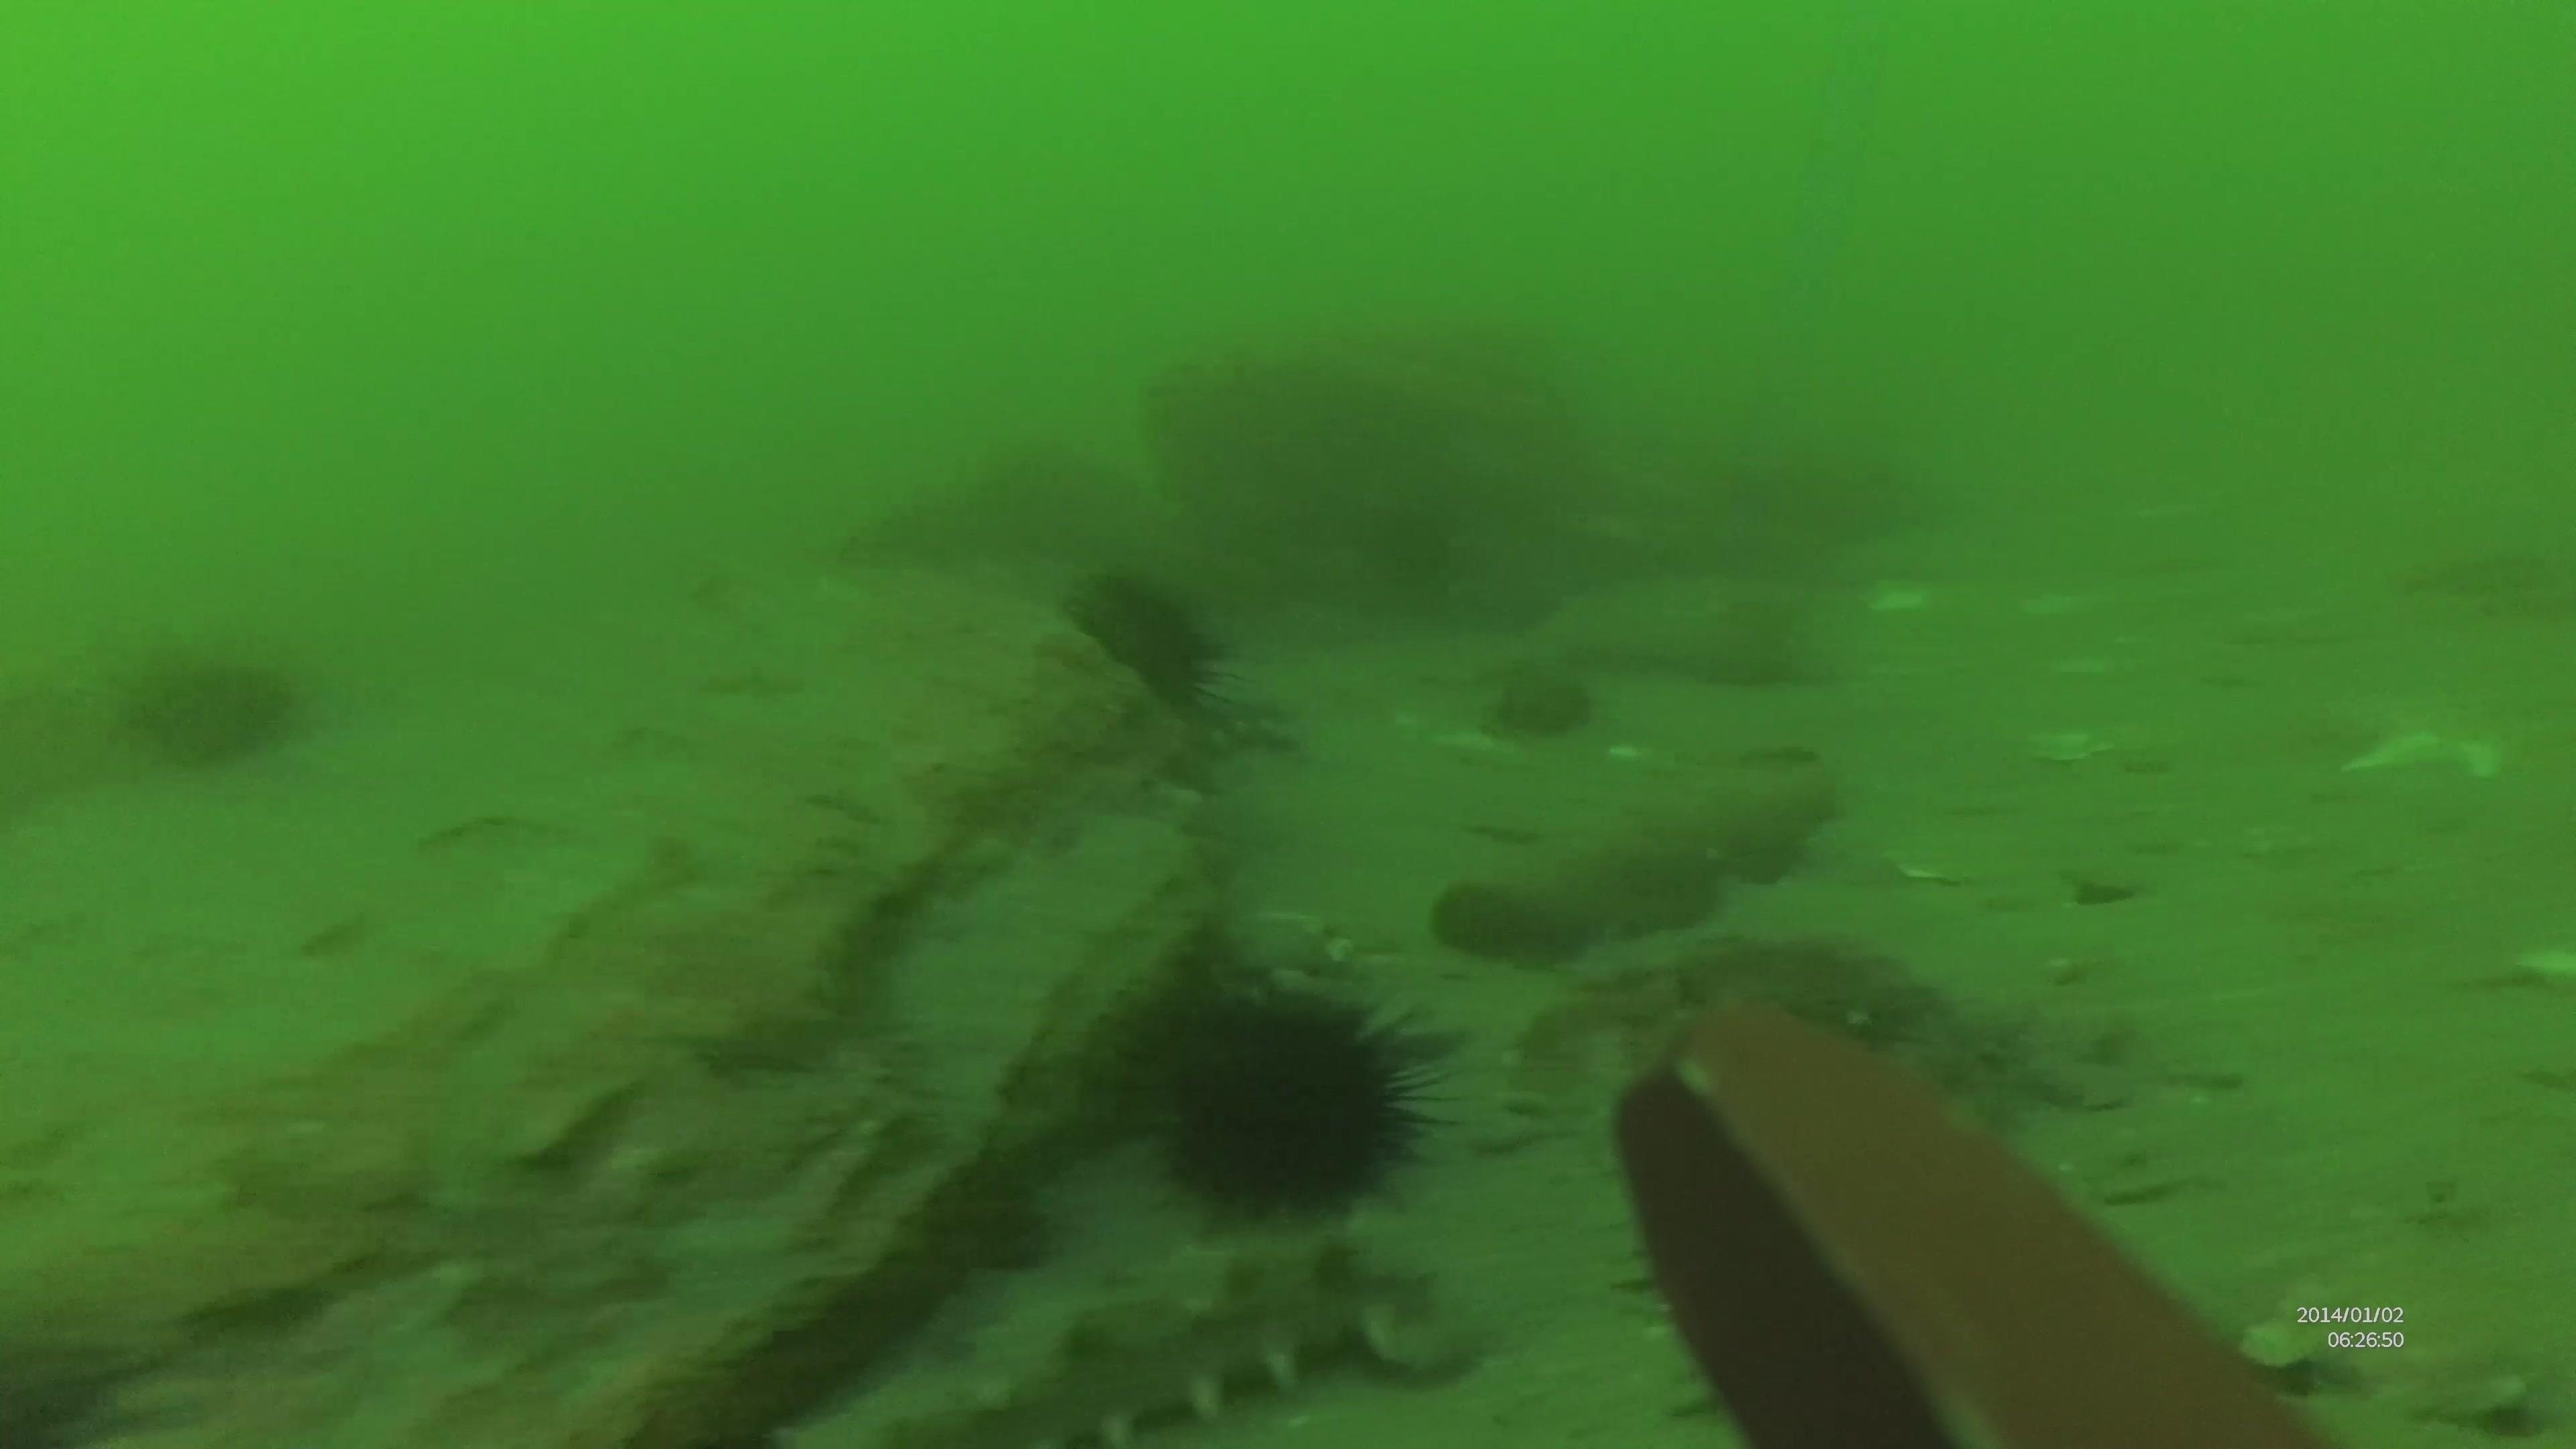echinus: (1099, 957, 1453, 1233), (1060, 561, 1237, 725), (115, 633, 308, 777)
holothurian: (945, 1228, 1474, 1440)
